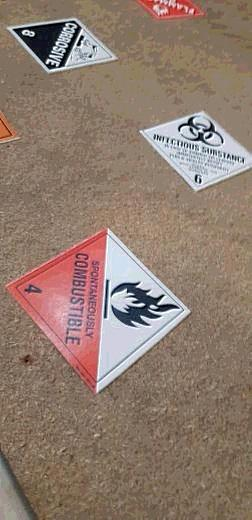corrosive: (5, 15, 119, 81)
flammable: (131, 1, 210, 22)
infectious-substance: (138, 109, 252, 195)
spontaneously-combustible: (2, 229, 192, 399)
